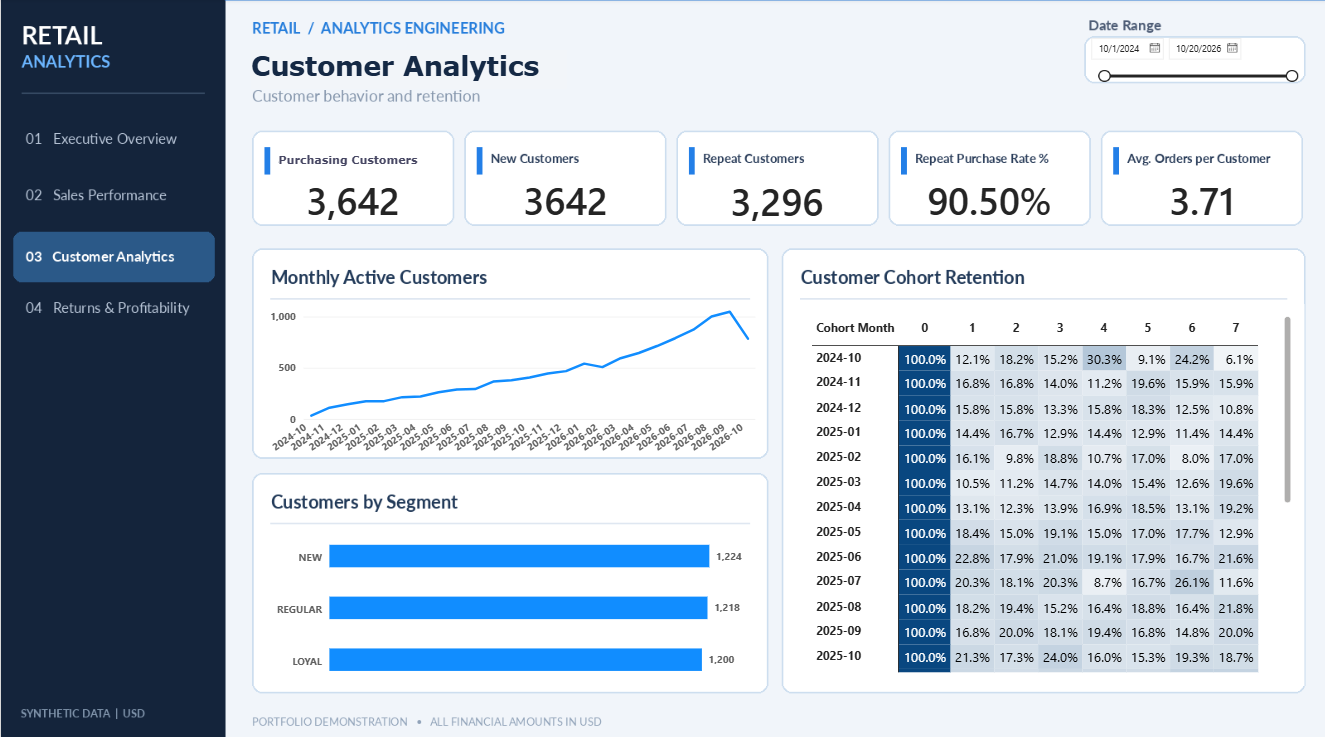

The page's visual inventory and layout, read from the dashboard file:
{"tool":"powerbi","page":{"name":"Customer Analytics","canvas":[1600,900],"ordinal":2},"visuals":[{"type":"shape","box":[1315,54.3,226.2,43.7],"z":0},{"type":"shape","box":[446.4,680.1,342.3,149.3],"z":1000},{"type":"shape","box":[1069.2,683.1,368,149.3],"z":2000},{"type":"cardVisual","fields":{"Data":["marts fct_order_items.Purchasing Customers"]},"box":[310,216,228.2,54.3],"z":3000},{"type":"lineChart","title":"Monthly Sales Trend","fields":{"Category":["dim_date.Year Month"],"Y":["marts fct_order_items.Purchasing Customers"]},"box":[304.6,336.3,621.3,241.3],"z":4000},{"type":"slicer","fields":{"Values":["dim_date.Date"]},"box":[1307.4,43.7,265.8,66],"z":5000},{"type":"cardVisual","fields":{"Data":["marts fct_order_items.New Purchasing Customers"]},"box":[567,216,228.2,54.3],"z":6000},{"type":"cardVisual","fields":{"Data":["marts fct_order_items.Repeat Customers"]},"box":[822,216.6,228.2,54.3],"z":7000},{"type":"cardVisual","fields":{"Data":["marts fct_order_items.Repeat Purchase Rate %"]},"box":[1079,216,228.2,54.3],"z":8000},{"type":"cardVisual","fields":{"Data":["marts fct_order_items.Average Orders per Customer"]},"box":[1334,216,228.2,54.3],"z":9000},{"type":"clusteredBarChart","fields":{"Category":["marts dim_customer.customer_segment"],"Y":["marts fct_order_items.Purchasing Customers"]},"box":[315.2,612.3,621.3,244.3],"z":10000},{"type":"pivotTable","fields":{"Columns":["marts mart_customer_cohorts.months_since_first_purchase"],"Rows":["marts mart_customer_cohorts.Cohort Month"],"Values":["marts mart_customer_cohorts.Cohort Retention %"]},"box":[962.1,369.5,610.8,460],"z":11000},{"type":"textbox","box":[334.4,185.3,176.8,31.7],"z":12000},{"type":"textbox","box":[302.3,61.7,381.3,47.7],"z":12001},{"type":"actionButton","box":[27.1,153.8,209.6,27.1],"z":12002},{"type":"actionButton","box":[16.6,220.2,209.6,33.2],"z":12003},{"type":"actionButton","box":[25.6,358.9,209.6,33.2],"z":12005}]}

Visuals, with their boxes on the page's 1600x900 design canvas (x1, y1, x2, y2). These are canvas units, not pixel positions in the 1325x737 screenshot, which may show the page scaled, cropped or inside an application window:
shape: 1315, 54, 1541, 98
shape: 446, 680, 789, 829
shape: 1069, 683, 1437, 832
cardVisual - marts fct_order_items.Purchasing Customers: 310, 216, 538, 270
"Monthly Sales Trend" lineChart: 305, 336, 926, 578
slicer - dim_date.Date: 1307, 44, 1573, 110
cardVisual - marts fct_order_items.New Purchasing Customers: 567, 216, 795, 270
cardVisual - marts fct_order_items.Repeat Customers: 822, 217, 1050, 271
cardVisual - marts fct_order_items.Repeat Purchase Rate %: 1079, 216, 1307, 270
cardVisual - marts fct_order_items.Average Orders per Customer: 1334, 216, 1562, 270
clusteredBarChart - marts dim_customer.customer_segment x marts fct_order_items.Purchasing Customers: 315, 612, 936, 857
pivotTable - marts mart_customer_cohorts.months_since_first_purchase x marts mart_customer_cohorts.Cohort Month: 962, 370, 1573, 830
textbox: 334, 185, 511, 217
textbox: 302, 62, 684, 109
actionButton: 27, 154, 237, 181
actionButton: 17, 220, 226, 253
actionButton: 26, 359, 235, 392
